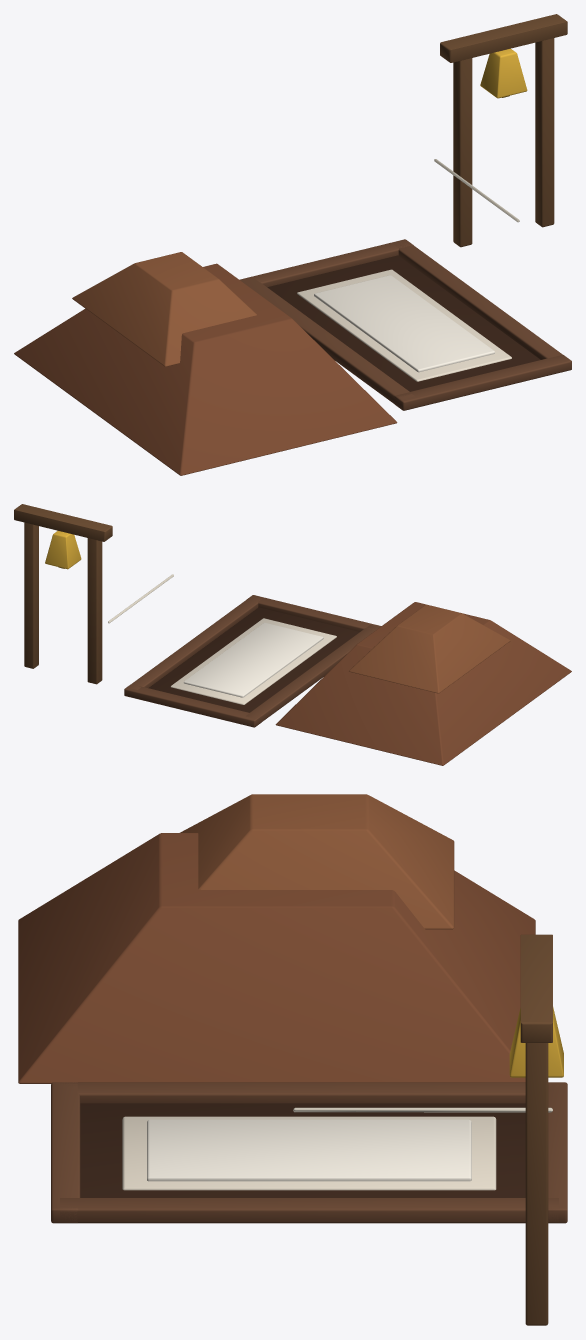
File: grave.glb
3 views of the same model, one above another, from view 1: azimuth 30°, elevation 25°; view 2: azimuth 150°, elevation 25°; view 3: azimuth 270°, elevation 25° (orthographic). The views are drawn at different scales.
Parts seen in each view (by area): view 1: grave; view 2: grave; view 3: grave.
Part boxes in pixels (bbox=[...]): grave: bbox=[14, 14, 571, 475]; grave: bbox=[14, 504, 571, 765]; grave: bbox=[18, 794, 567, 1325].
Bounding box in the file's own units: 6.04 × 2.12 × 3.38.
